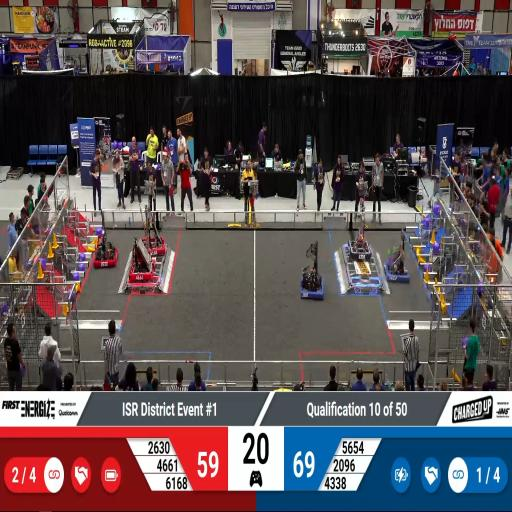robot: (299, 260, 326, 303), (383, 248, 411, 286), (92, 235, 120, 271), (129, 249, 156, 285), (346, 228, 372, 261), (141, 225, 166, 258)
